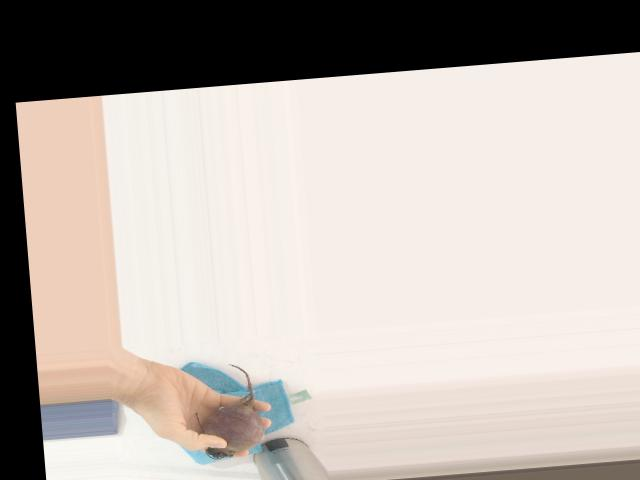beet: (192, 361, 266, 460)
